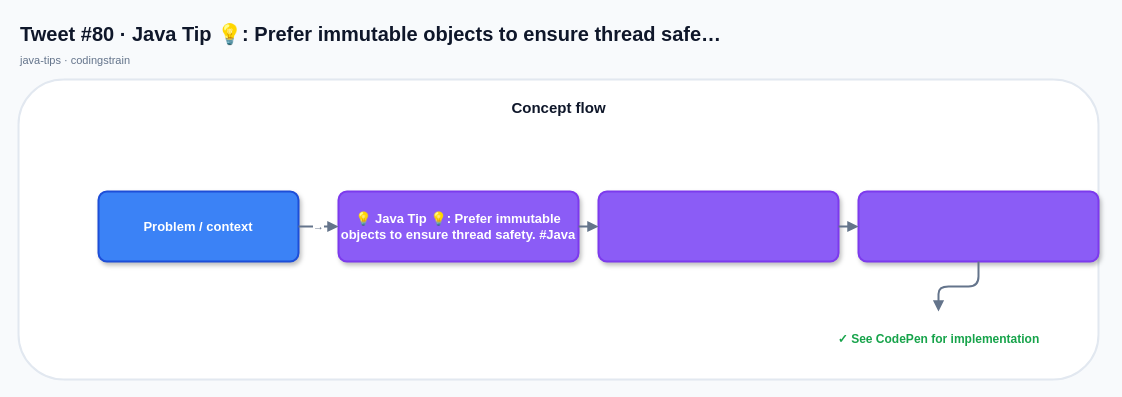
This 1122x397 diagram has some shape labels left out. The centre of each missing label's shape, as x and y in pixels:
Java Tip 💡: Prefer immutable objects to ensure thread safety. #Java #C: point (719, 227)
Runnable sample: `java-tips`: point (979, 227)
